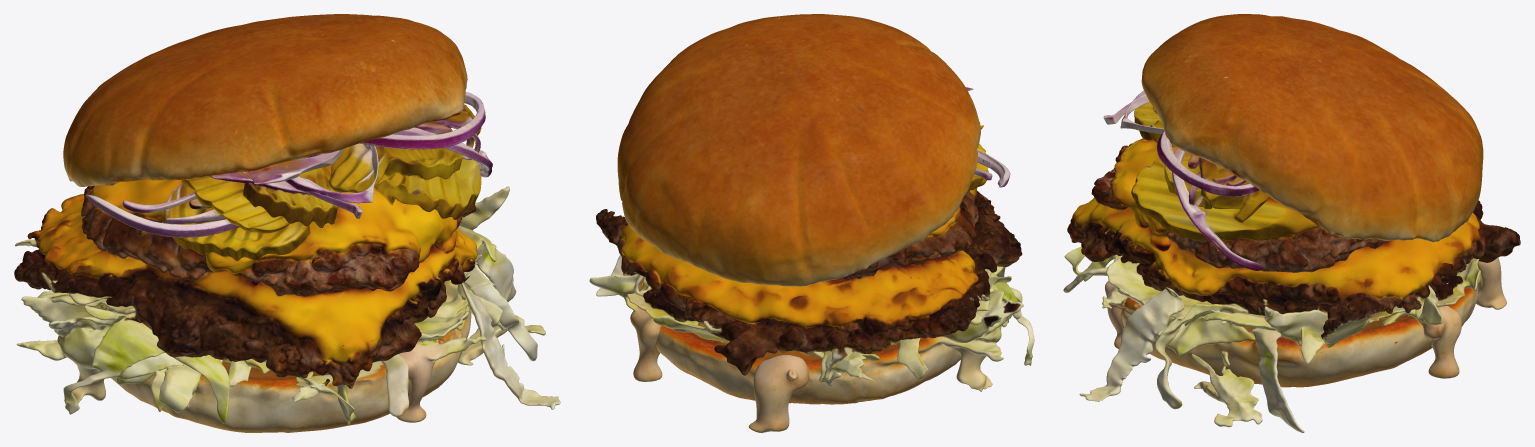
File: burger-diagnostic.glb
The picture shows the model from 3 angles, left to right: view 1: azimuth 30°, elevation 25°; view 2: azimuth 150°, elevation 25°; view 3: azimuth 270°, elevation 25°; orthographic projection. The views are drawn at different scales.
Size of the model in its own units: 1.9 by 1.26 by 1.78.
1 material, 1 textured.
